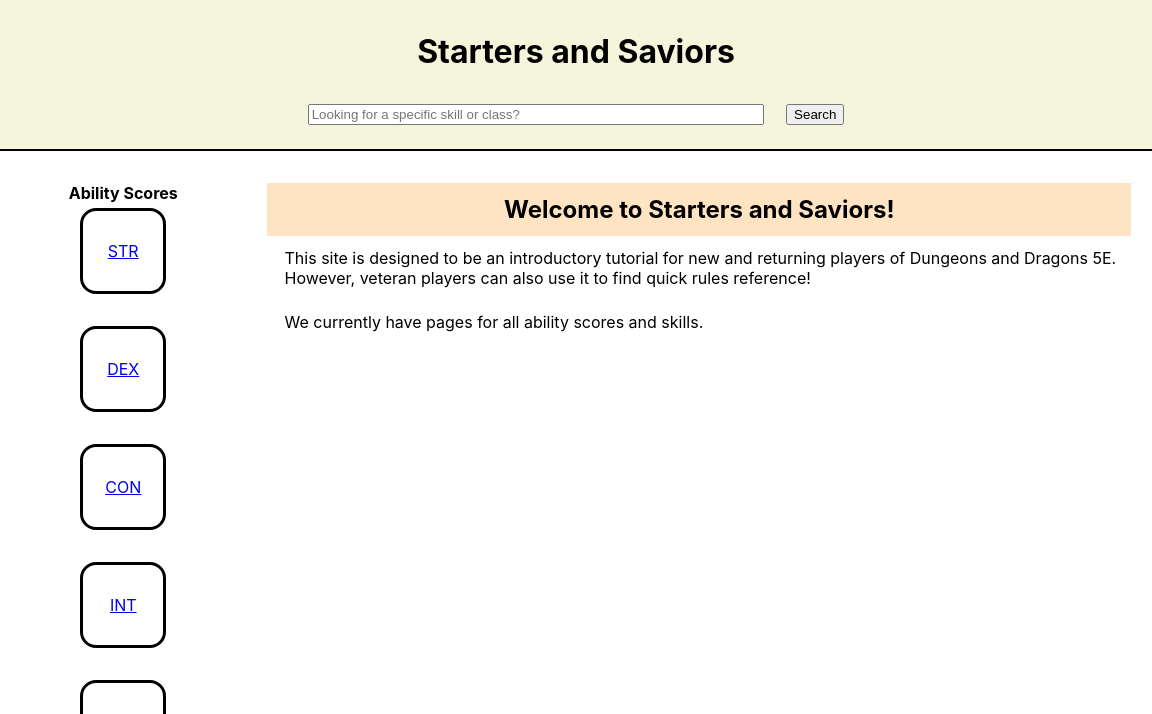
Test: Homepage functionality › Should navigate to a new page when the search bar is used to find a skill
Type "deception" into the field named "search-bar".
click(536, 115); type("deception")  # box x1=308 y1=104 x2=764 y2=125
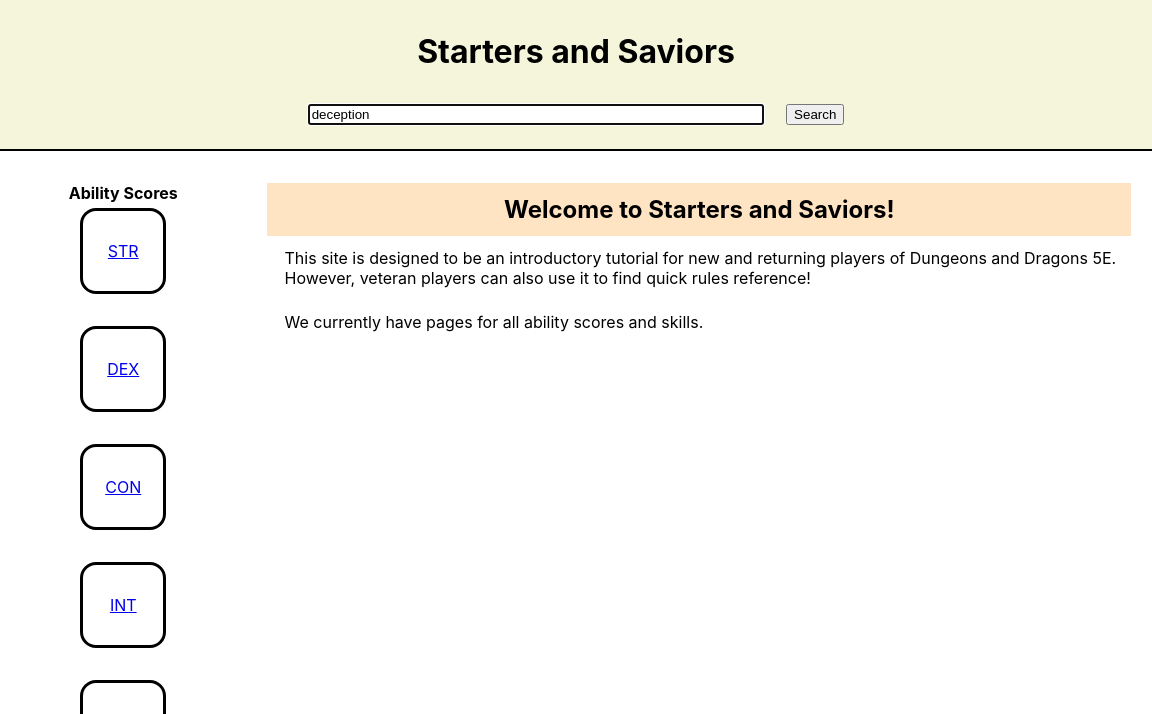
Click the button "Search".
click(815, 115)  # box x1=786 y1=104 x2=844 y2=125
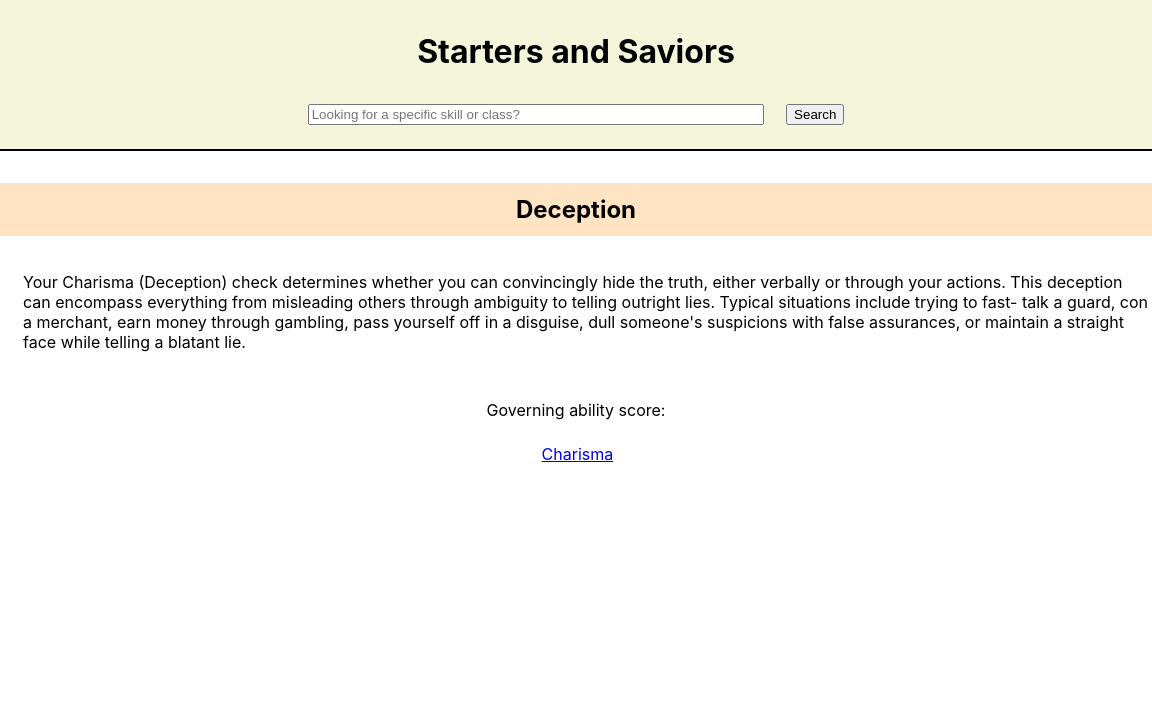
Check: the heading "Deception" is shown, box x1=0 y1=183 x2=1151 y2=236
